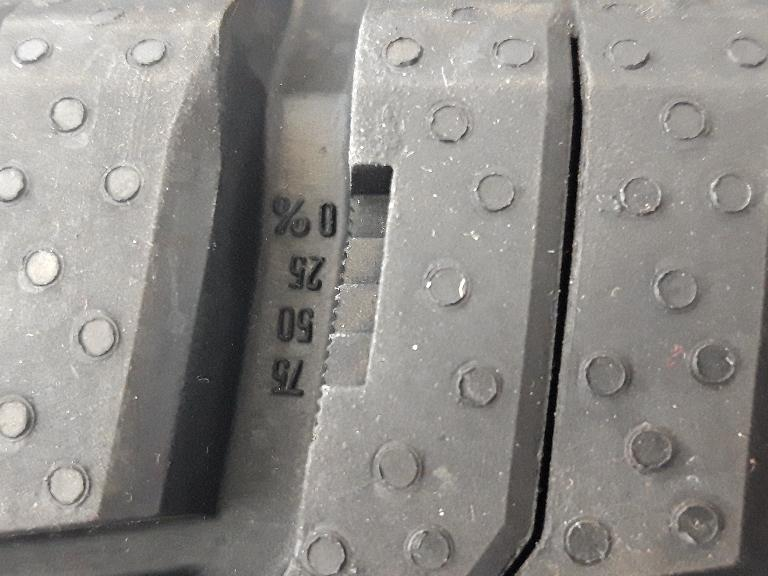temoin:100: (306, 160, 400, 441)
